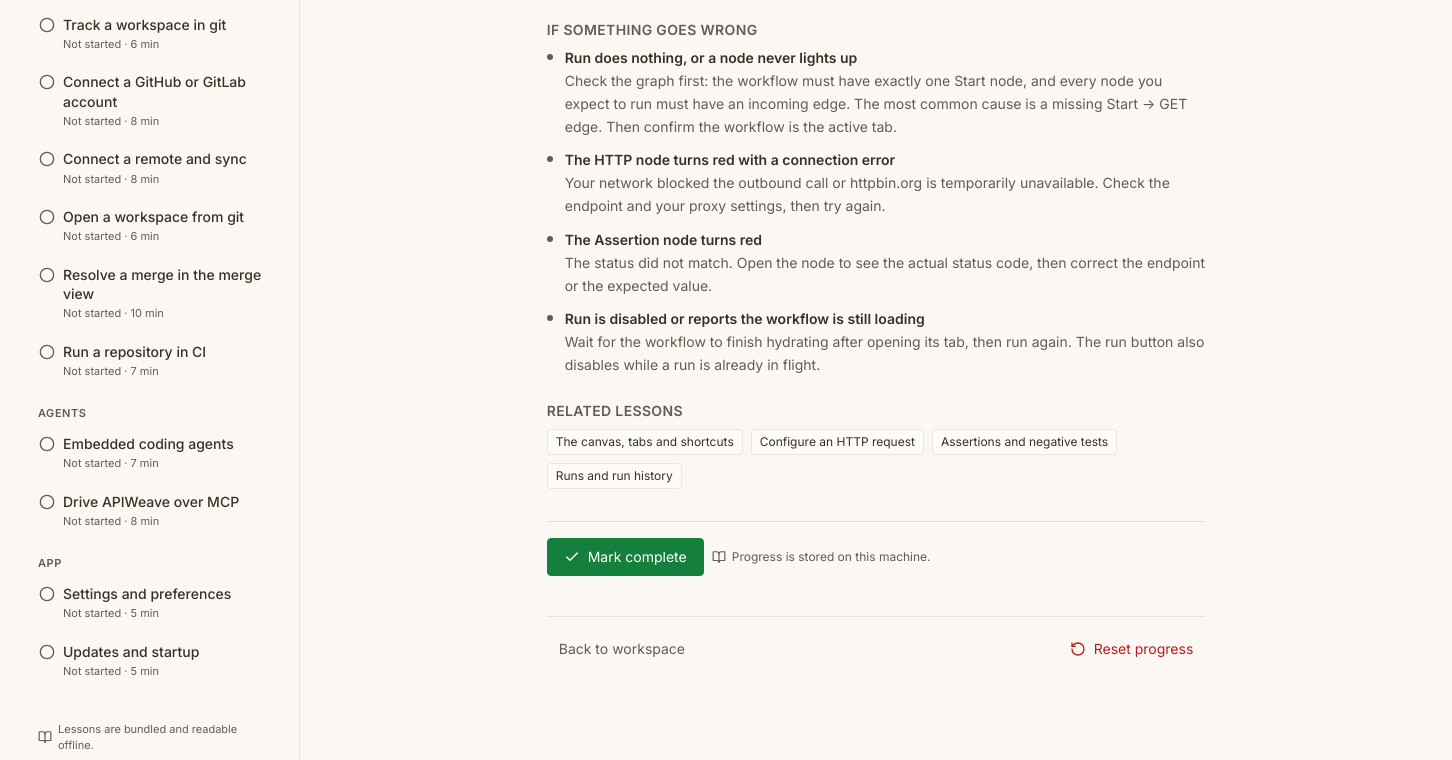
Scenario: TutorialPage reader › navigates to a related lesson by title
(page scrolled)
Click the button "The canvas, tabs and shortcuts" at (645, 442), box top-left (547, 429), bottom-right (743, 455)
(page scrolled)
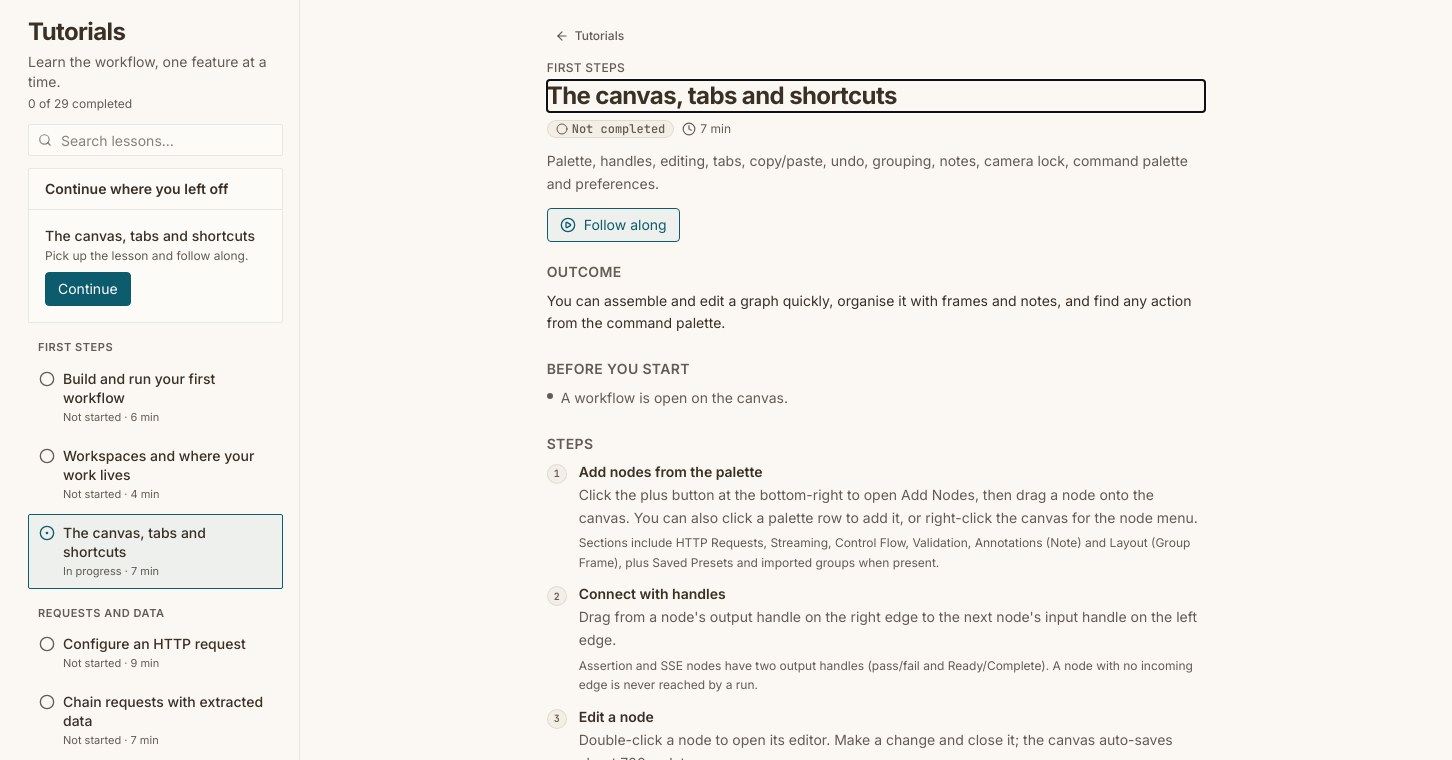
Expected: the heading "The canvas, tabs and shortcuts" is shown, top-left (547, 81), bottom-right (897, 110)
